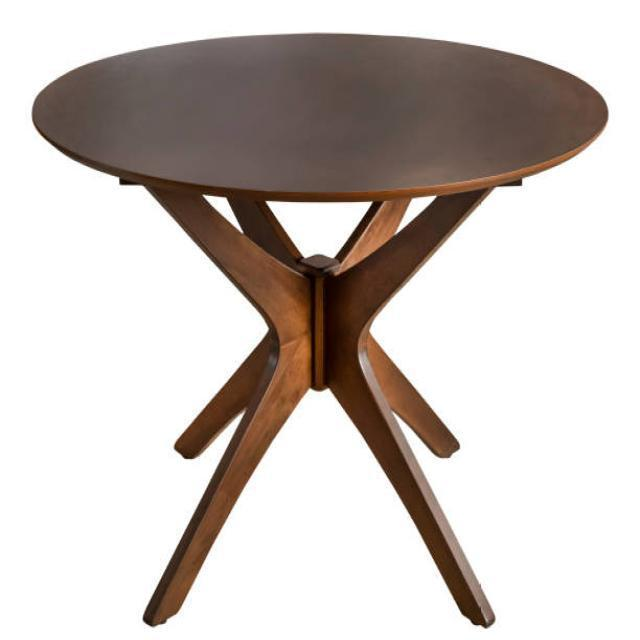table: (30, 30, 609, 628)
